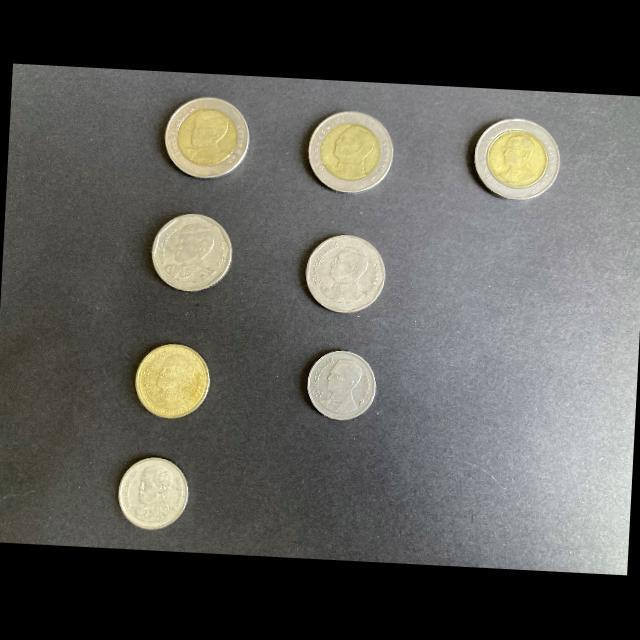1 Bath: (116, 454, 192, 536), (304, 349, 380, 424)
10 Bath: (304, 109, 401, 197), (471, 116, 565, 206), (161, 94, 253, 184)
2 Bath: (131, 342, 213, 422)
5 Bath: (148, 210, 236, 297), (303, 232, 391, 318)
